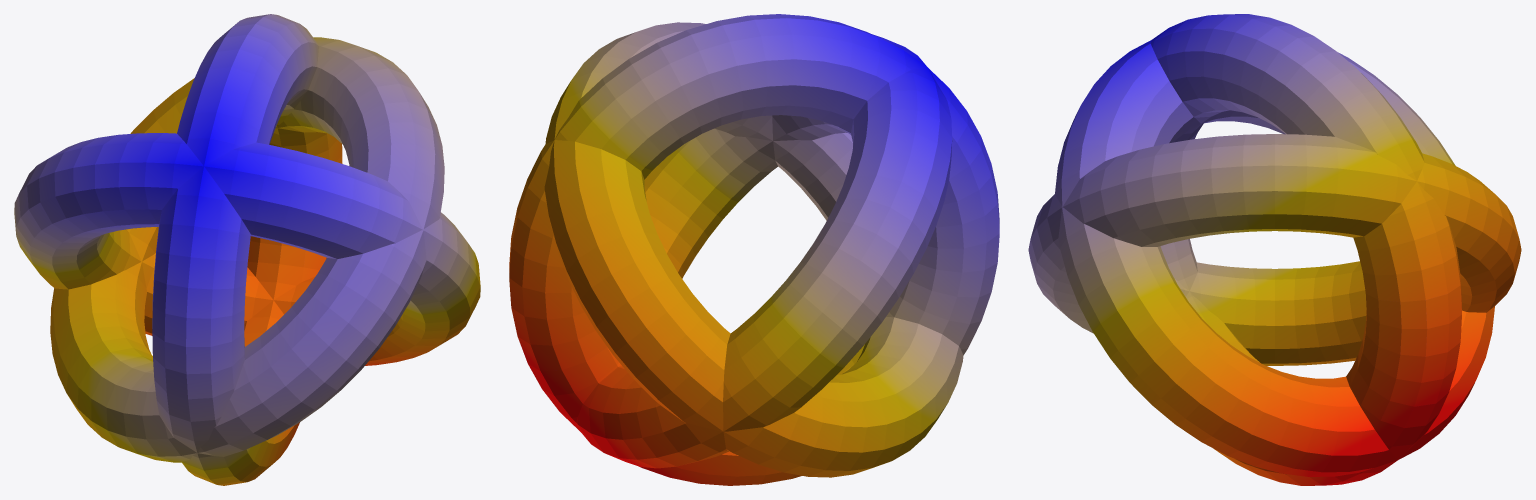
3 renders of one model, left to right at view 1: azimuth 30°, elevation 25°; view 2: azimuth 150°, elevation 25°; view 3: azimuth 270°, elevation 25°, orthographic. The views are drawn at different scales.
Parts seen in each view (by area): view 1: 环体; view 2: 环体; view 3: 环体.
Boxes of the visible parts, x1=… form: 环体: x1=14, y1=14, x2=480, y2=485; 环体: x1=509, y1=14, x2=999, y2=485; 环体: x1=1028, y1=14, x2=1521, y2=485.
Size of the model in its own units: 2.23 by 2.5 by 2.5.
1 material, 1 textured.
